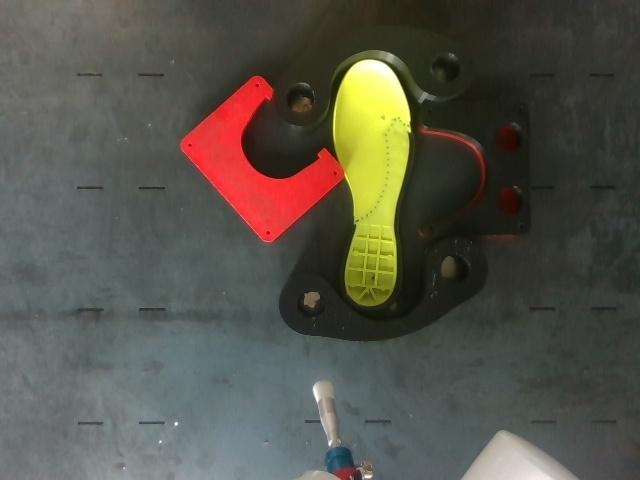shoes: (334, 59, 415, 311)
